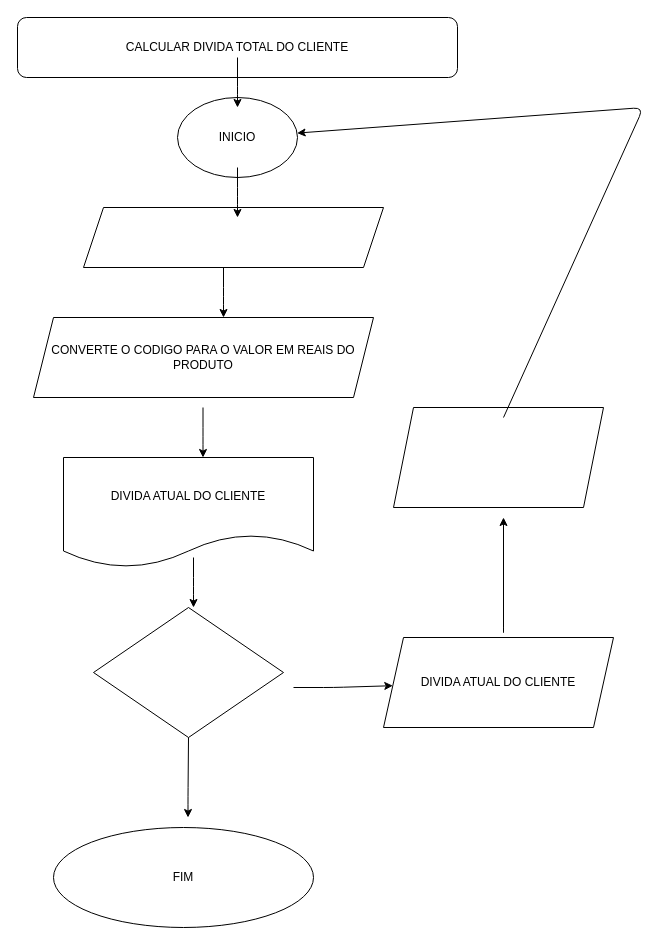
This 669x945 diagram has some shape labels left out. Each missing label, with the centre of its shape:
"HA MAIS PRODUTOS NA COMPRA?" belongs at point (188, 672).
"INSERIR O CODIGO DO PRODUTO" belongs at point (233, 237).
"SOMA" belongs at point (498, 457).
